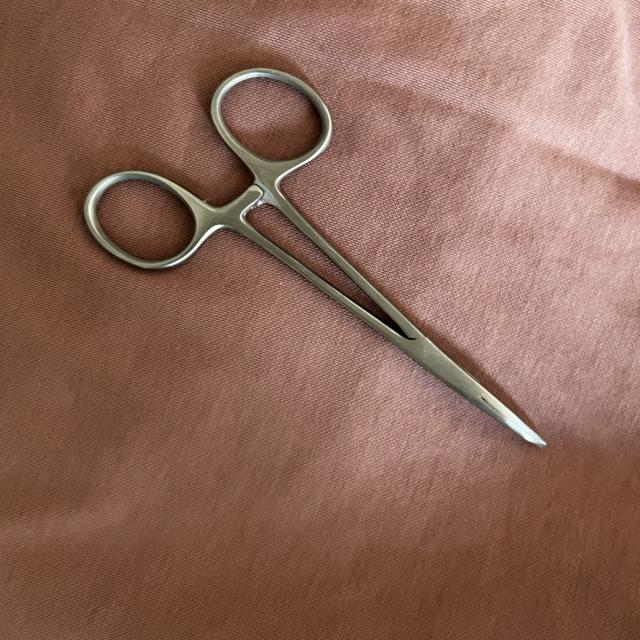scissor: (76, 60, 552, 455)
